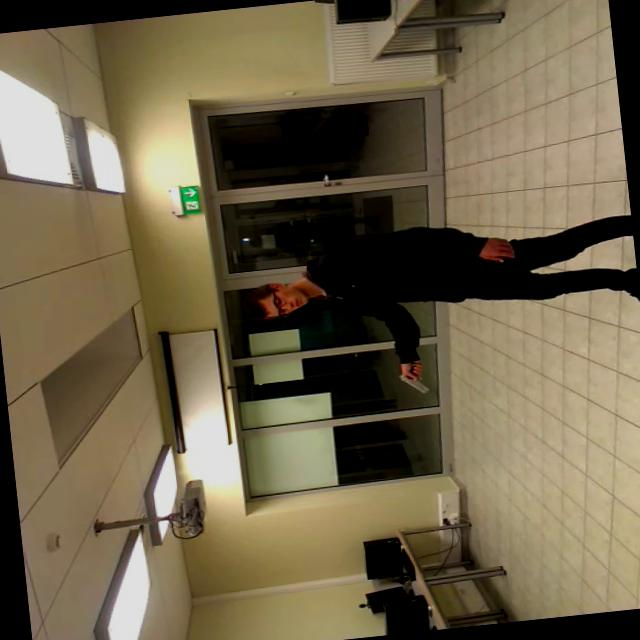handgun: (394, 356, 442, 404)
